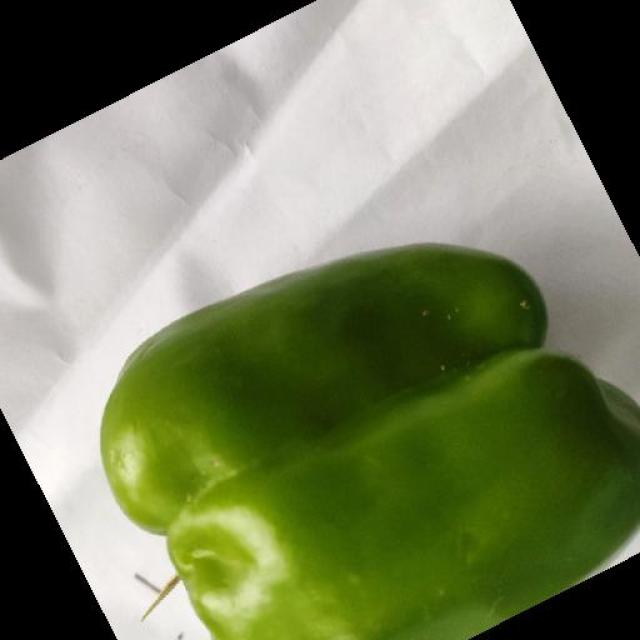Fresh_Capsicum: (75, 312, 640, 602)
